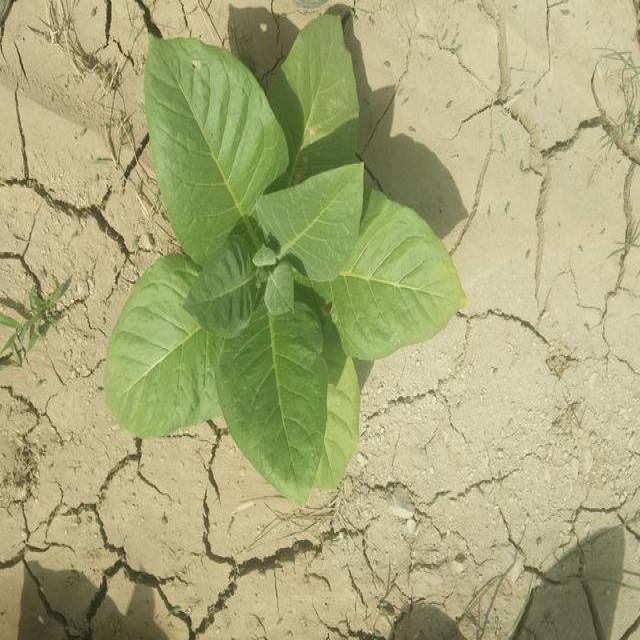crop: (98, 14, 464, 514)
